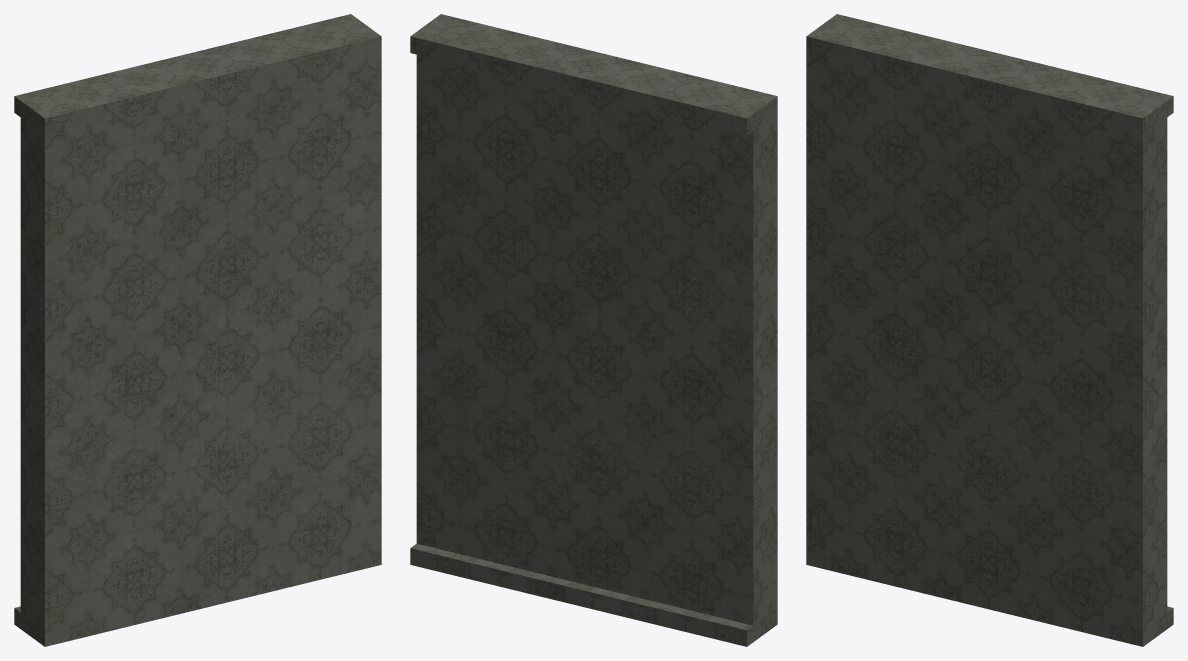
File: Wall_esssahl_default.fbx
3 views of the same model, side by side, from view 1: azimuth 30°, elevation 25°; view 2: azimuth 150°, elevation 25°; view 3: azimuth 330°, elevation 25° (orthographic).
Parts seen in each view (by area): view 1: Wall_Esss_default214; view 2: Wall_Esss_default214; view 3: Wall_Esss_default214.
Part boxes in pixels (<box>): Wall_Esss_default214: <box>14,14,381,646</box>; Wall_Esss_default214: <box>410,14,777,646</box>; Wall_Esss_default214: <box>806,14,1173,646</box>.
Size of the model in its own units: 200 by 300 by 31.48.
